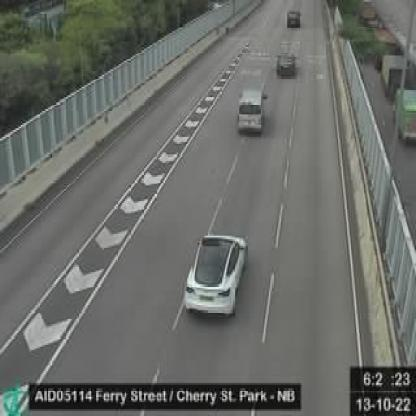Car: (183, 231, 248, 316), (237, 83, 270, 134), (276, 48, 296, 77), (288, 9, 302, 29)
